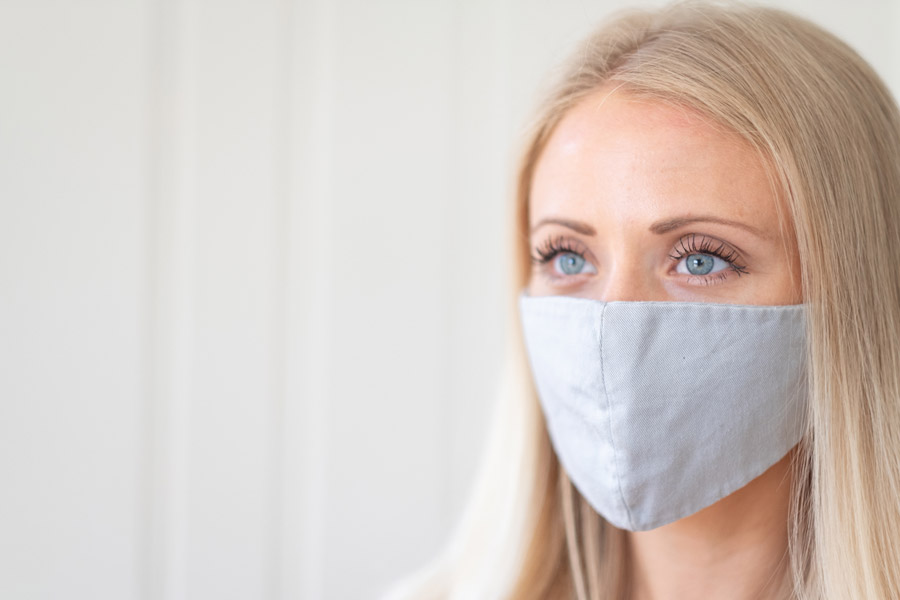female: (374, 5, 900, 600)
